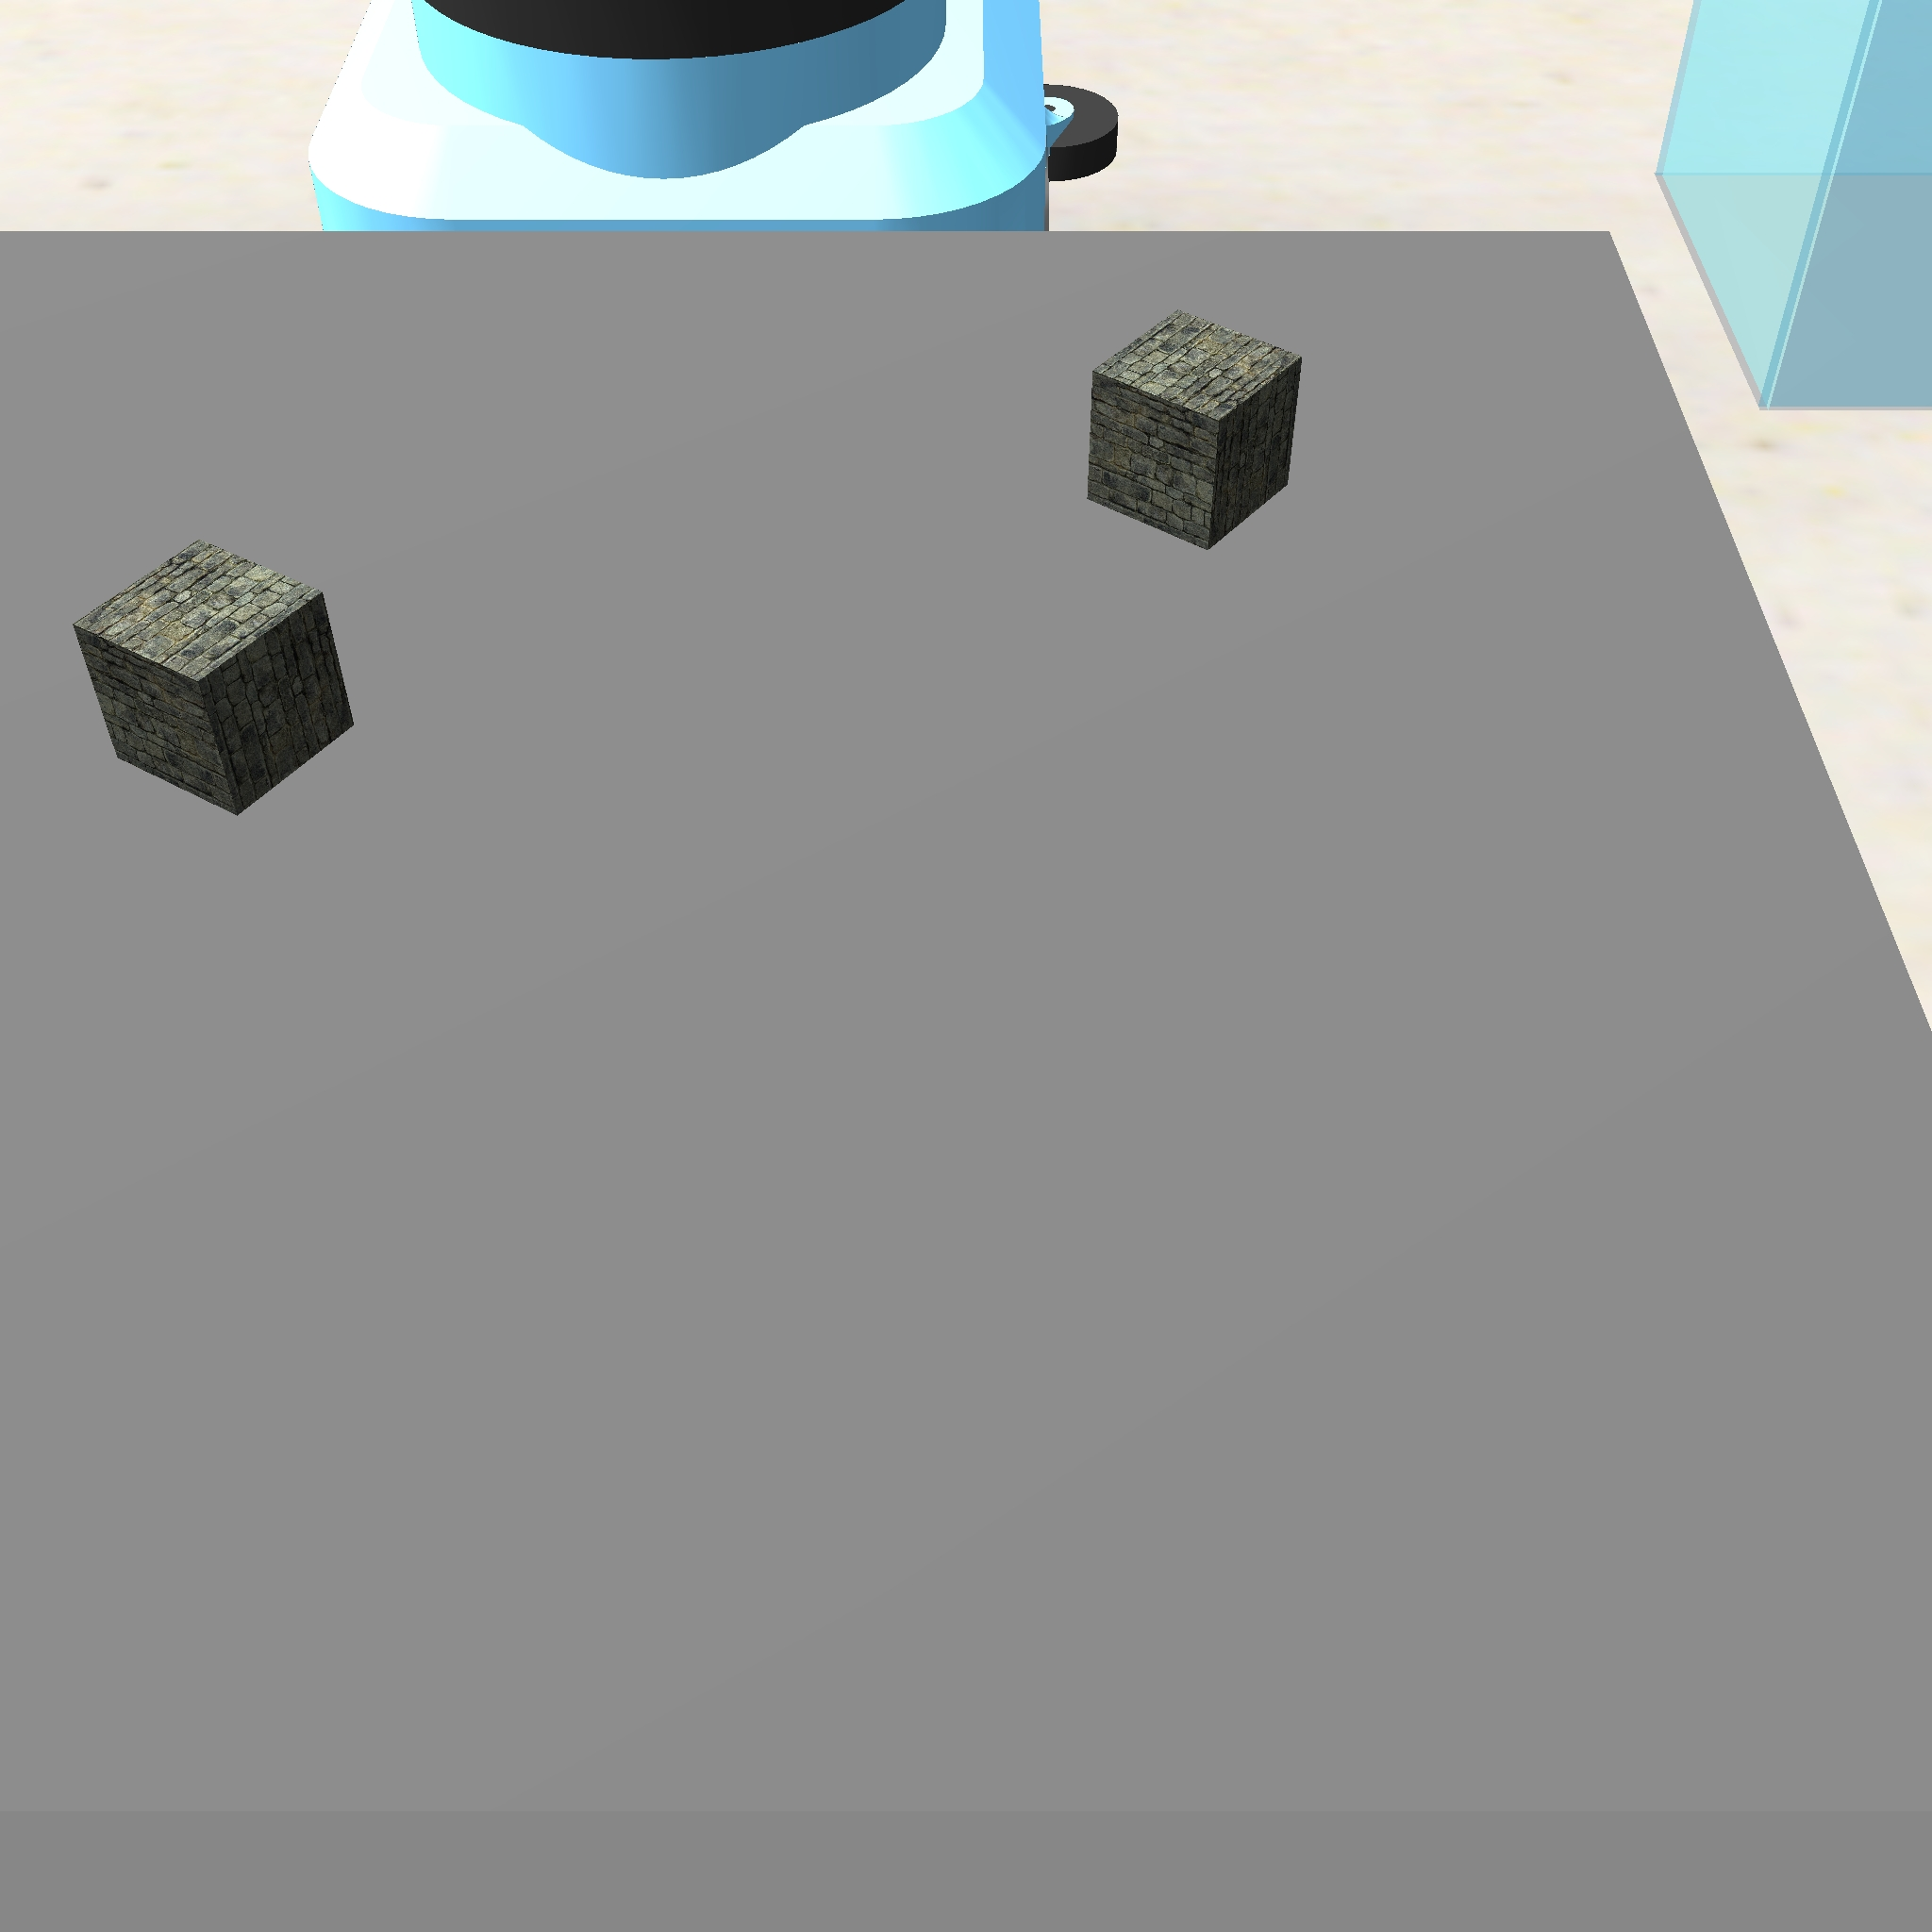cube: (65, 533, 366, 821), (1077, 303, 1306, 556)
